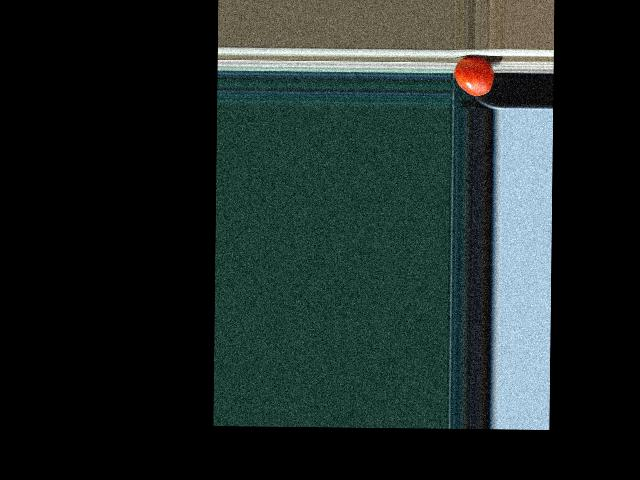tomato: (454, 56, 494, 96)
